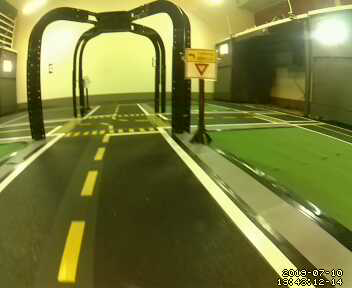Turn Yield: (183, 49, 219, 81)
